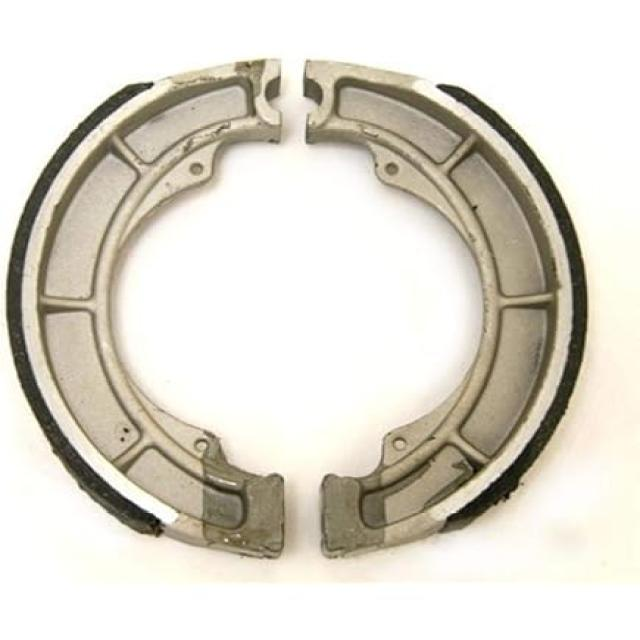brake_pad: (296, 37, 598, 570), (16, 46, 293, 566)
